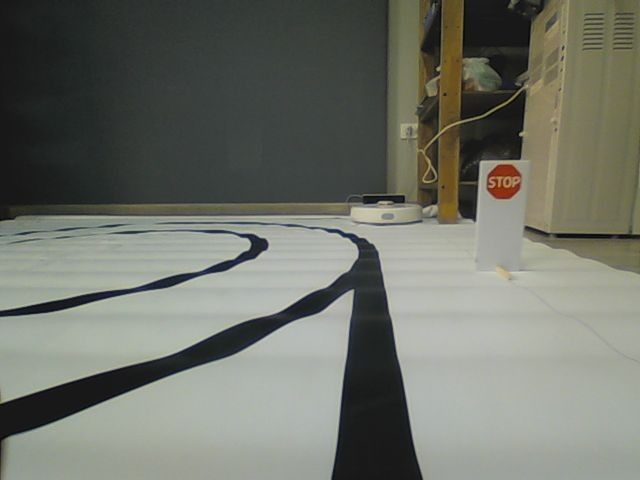Stop: (485, 163, 522, 200)
